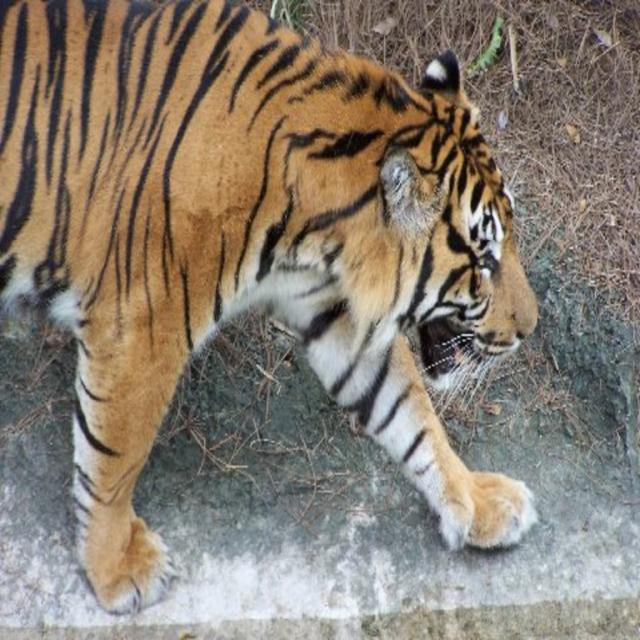Tiger: (0, 0, 540, 613)
